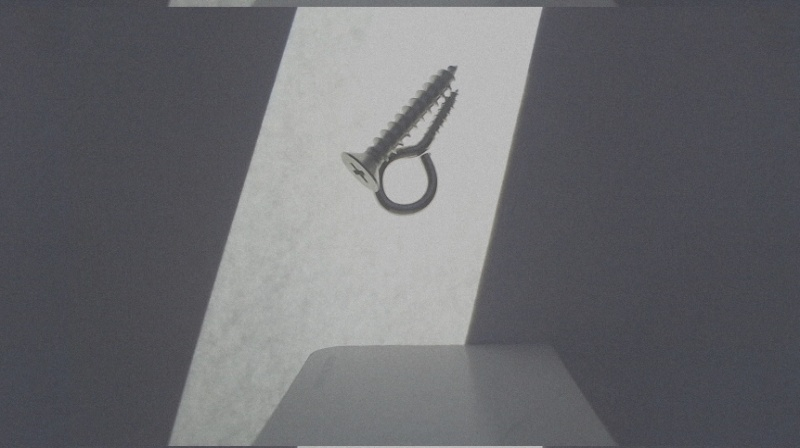O001: (372, 88, 459, 217)
S001: (339, 64, 457, 191)
